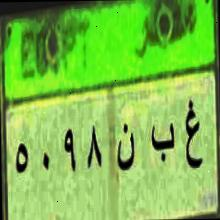0: (38, 138, 58, 176)
5: (13, 138, 32, 179)
8: (82, 119, 104, 171)
9: (58, 123, 80, 177)
baa: (150, 106, 176, 171)
ghayn: (180, 94, 203, 184)
noon: (114, 116, 136, 178)
